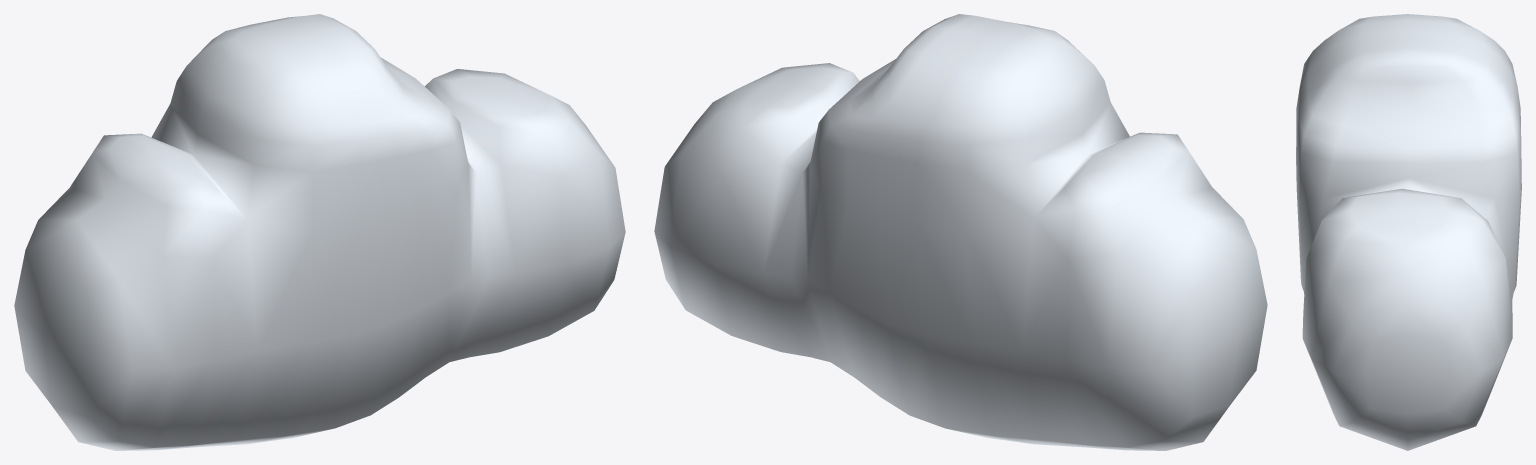
File: nuve.dae
3 renders of one model, left to right at view 1: azimuth 30°, elevation 25°; view 2: azimuth 150°, elevation 25°; view 3: azimuth 270°, elevation 25°, orthographic. The views are drawn at different scales.
Visible parts, largest first — view 1: nuve_1; view 2: nuve_1; view 3: nuve_1.
Part boxes in pixels (x1,y1,x2,y2): nuve_1: (14, 14, 625, 450); nuve_1: (654, 14, 1267, 450); nuve_1: (1296, 14, 1521, 450).
Bounding box in the file's own units: 5.16 × 2.01 × 3.54.
1 material, 1 textured.
